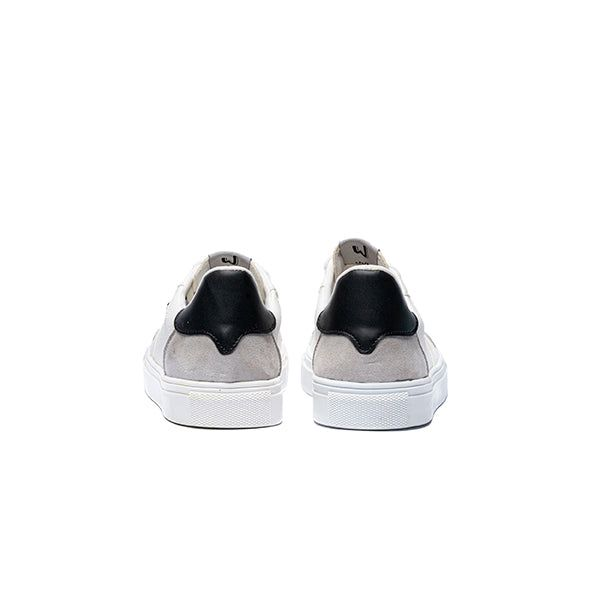gamuza: (163, 331, 429, 383)
